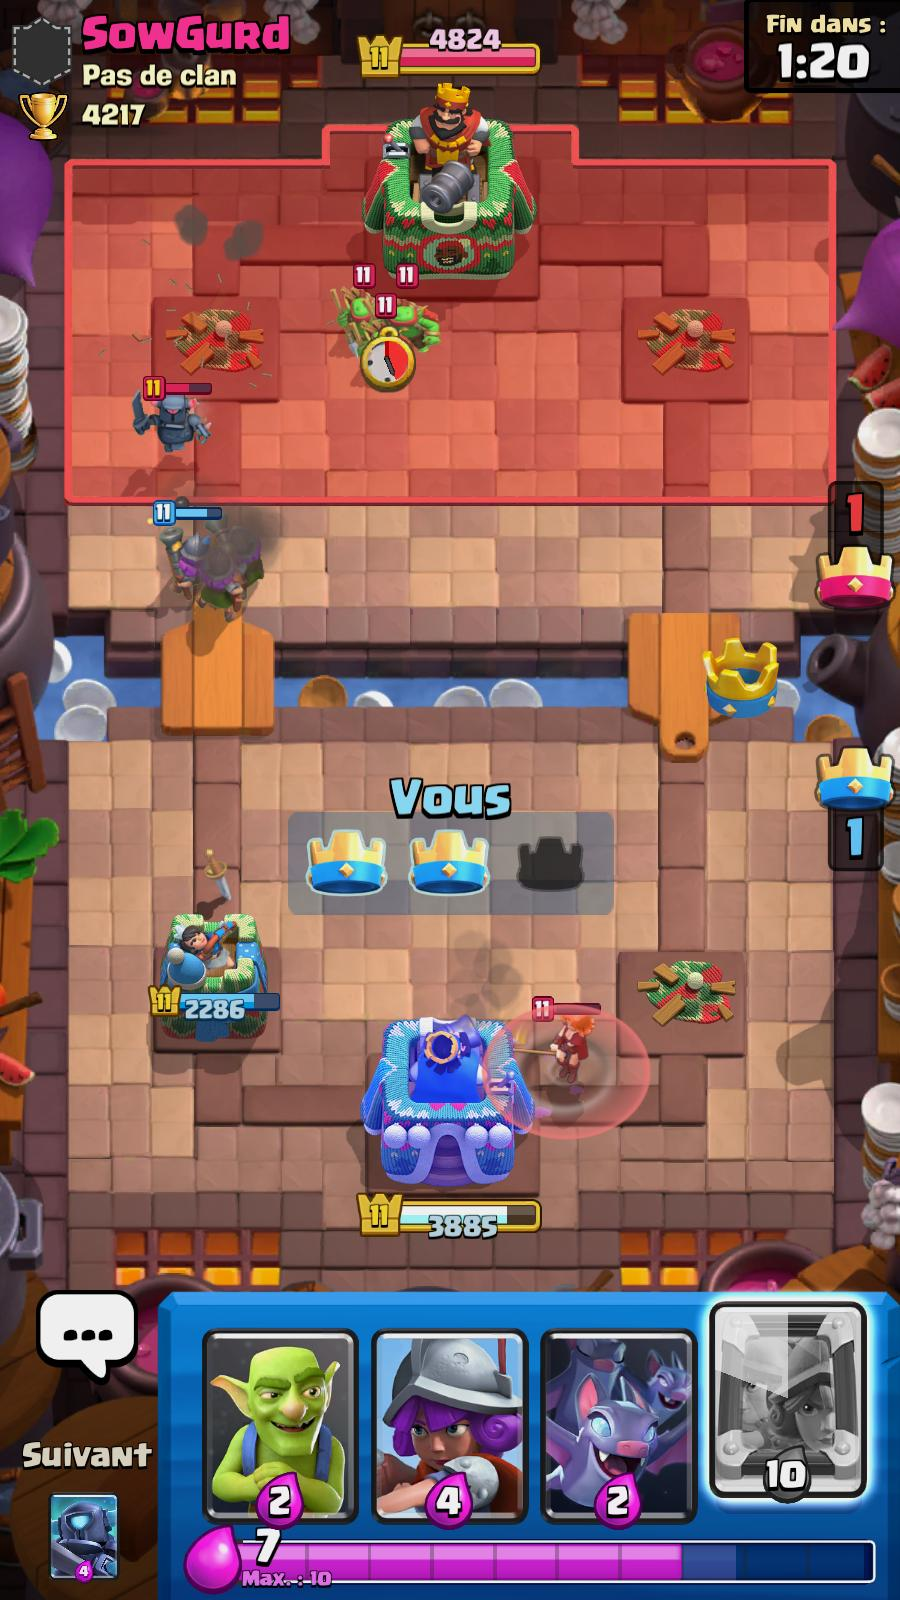gobelin_lances: (384, 271, 444, 345), (334, 274, 378, 352), (356, 321, 414, 369)
mini_PEKKA: (127, 373, 215, 460)
mousquetaire: (154, 497, 213, 600), (196, 540, 251, 621), (218, 514, 266, 587)
valkyrie: (535, 995, 605, 1089)
